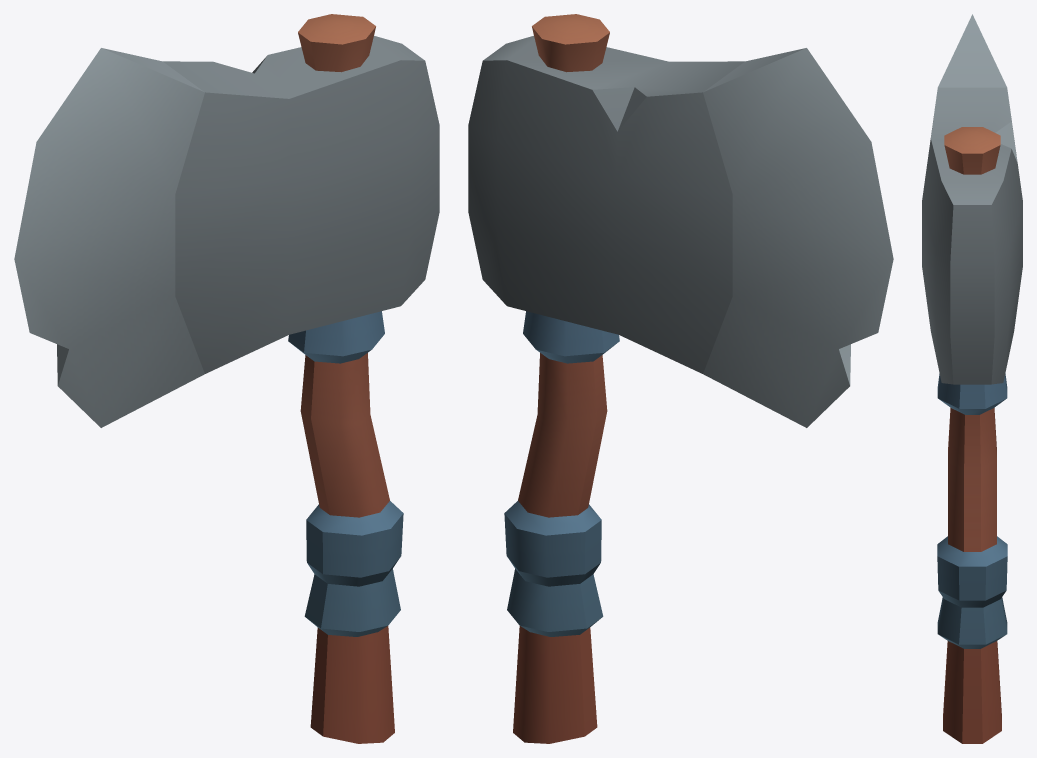
3 views of the same model, side by side, from view 1: azimuth 30°, elevation 25°; view 2: azimuth 150°, elevation 25°; view 3: azimuth 270°, elevation 25° (orthographic). The views are drawn at different scales.
Parts seen in each view (by area): view 1: axe_1handed; view 2: axe_1handed; view 3: axe_1handed.
Part boxes in pixels (x1,y1,x2,y2): axe_1handed: (14, 14, 439, 743); axe_1handed: (468, 14, 893, 743); axe_1handed: (922, 14, 1022, 743).
Size of the model in its own units: 0.7143 by 1.24 by 0.185.
Materials: 1 (1 with a texture image).
